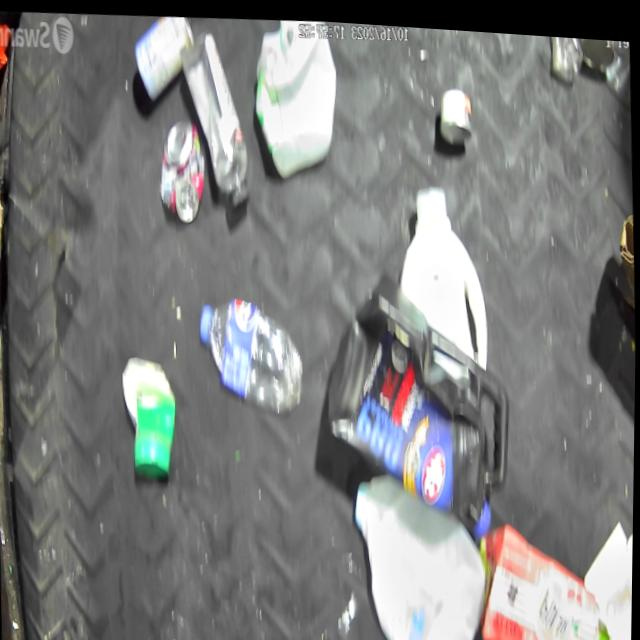can: (121, 351, 180, 482), (132, 11, 197, 103), (158, 114, 207, 222), (439, 81, 473, 141), (576, 30, 615, 63)
milk_jug: (352, 460, 491, 640), (395, 178, 491, 374), (252, 13, 341, 177)
non_white_jug: (323, 283, 516, 539), (478, 509, 603, 640)
plastic_bottle: (196, 290, 306, 418), (179, 25, 253, 209)
